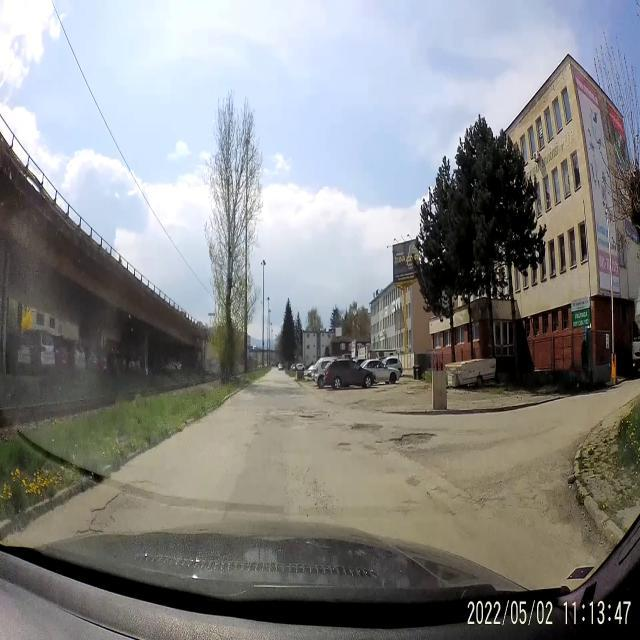Pothole: (90, 490, 136, 527), (388, 427, 436, 449), (350, 421, 384, 436), (122, 478, 161, 490), (75, 524, 105, 535), (430, 482, 450, 496), (338, 436, 352, 454), (298, 410, 316, 423), (346, 396, 368, 406), (329, 420, 347, 432), (316, 407, 329, 418), (373, 437, 384, 447)
